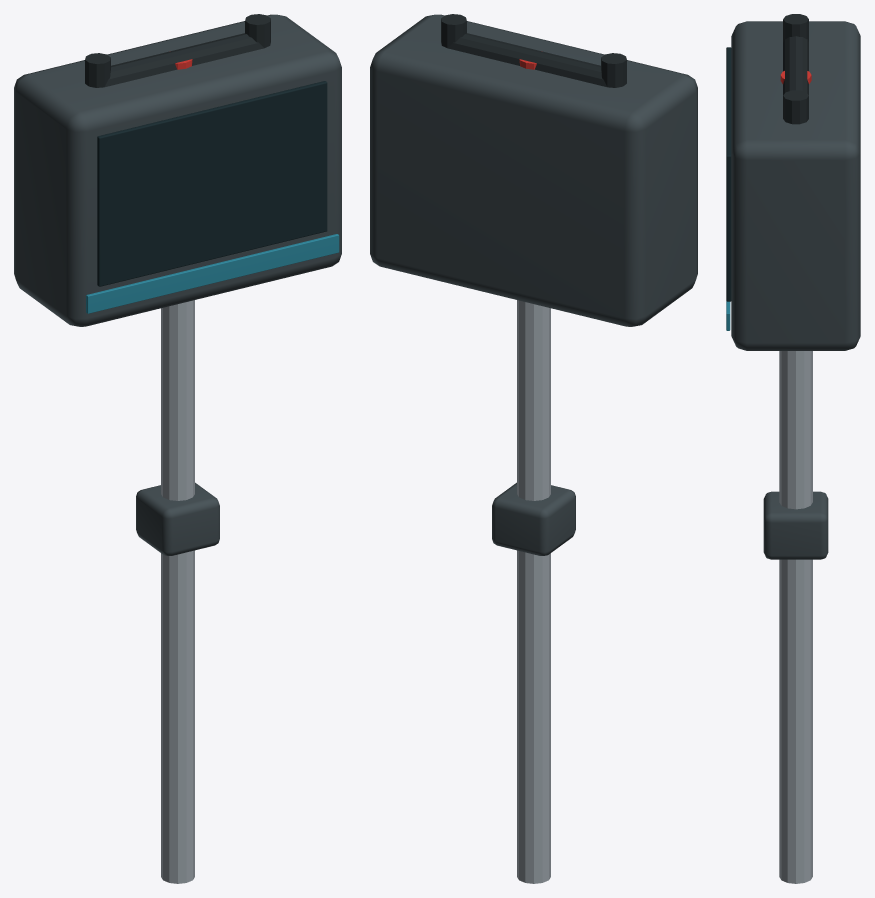
The model's file is transport_monitor.fbx.
3 views of the same model, side by side, from view 1: azimuth 30°, elevation 25°; view 2: azimuth 150°, elevation 25°; view 3: azimuth 270°, elevation 25° (orthographic). The views are drawn at different scales.
Visible parts, largest first — view 1: EQ_transport_monitor_Body, EQ_transport_monitor_Screen, EQ_transport_monitor_Pole, EQ_transport_monitor_Bezel, EQ_transport_monitor_Clamp, EQ_transport_monitor_Handle, EQ_transport_monitor_HandleL, EQ_transport_monitor_HandleR; view 2: EQ_transport_monitor_Body, EQ_transport_monitor_Pole, EQ_transport_monitor_Clamp, EQ_transport_monitor_Handle, EQ_transport_monitor_HandleL, EQ_transport_monitor_HandleR; view 3: EQ_transport_monitor_Body, EQ_transport_monitor_Pole, EQ_transport_monitor_Clamp, EQ_transport_monitor_Screen, EQ_transport_monitor_Handle, EQ_transport_monitor_HandleR, EQ_transport_monitor_HandleL.
Part boxes in pixels (x1,y1,x2,y2): EQ_transport_monitor_Body: [14, 14, 341, 326]; EQ_transport_monitor_Screen: [97, 81, 327, 286]; EQ_transport_monitor_Pole: [161, 300, 194, 883]; EQ_transport_monitor_Bezel: [86, 234, 339, 313]; EQ_transport_monitor_Clamp: [136, 482, 219, 555]; EQ_transport_monitor_Handle: [105, 33, 263, 86]; EQ_transport_monitor_HandleL: [85, 53, 110, 87]; EQ_transport_monitor_HandleR: [245, 14, 270, 48]; EQ_transport_monitor_Body: [370, 14, 697, 326]; EQ_transport_monitor_Pole: [517, 300, 550, 883]; EQ_transport_monitor_Clamp: [492, 482, 575, 555]; EQ_transport_monitor_Handle: [448, 33, 606, 86]; EQ_transport_monitor_HandleL: [601, 53, 626, 87]; EQ_transport_monitor_HandleR: [441, 14, 466, 48]; EQ_transport_monitor_Body: [731, 21, 860, 350]; EQ_transport_monitor_Pole: [779, 351, 812, 883]; EQ_transport_monitor_Clamp: [763, 491, 828, 559]; EQ_transport_monitor_Screen: [726, 47, 731, 301]; EQ_transport_monitor_Handle: [783, 36, 808, 95]; EQ_transport_monitor_HandleR: [783, 90, 808, 124]; EQ_transport_monitor_HandleL: [783, 14, 808, 42].
Size of the model in its own units: 0.24 by 0.7 by 0.104.
